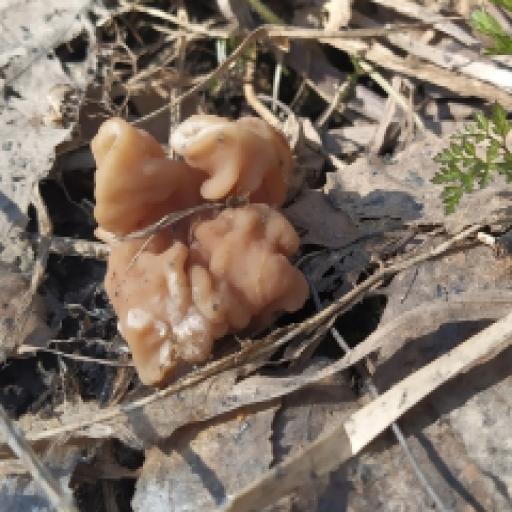False Morel: (76, 93, 317, 389)
